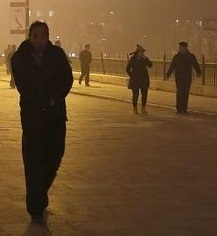person: (11, 18, 73, 225), (167, 41, 200, 114), (126, 45, 153, 114), (75, 41, 96, 87)
